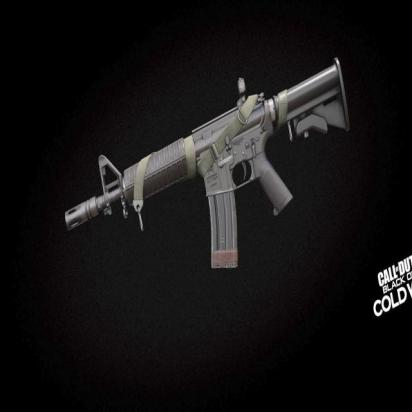Gun: (64, 51, 364, 277)
